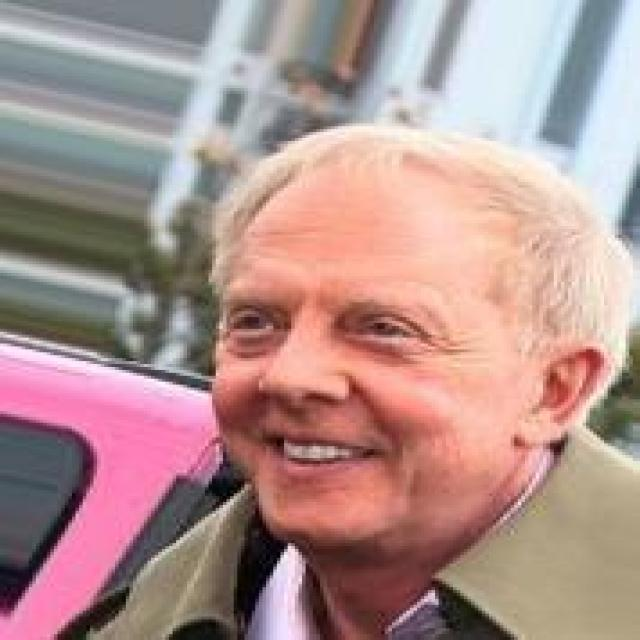nomask: (165, 108, 640, 558)
